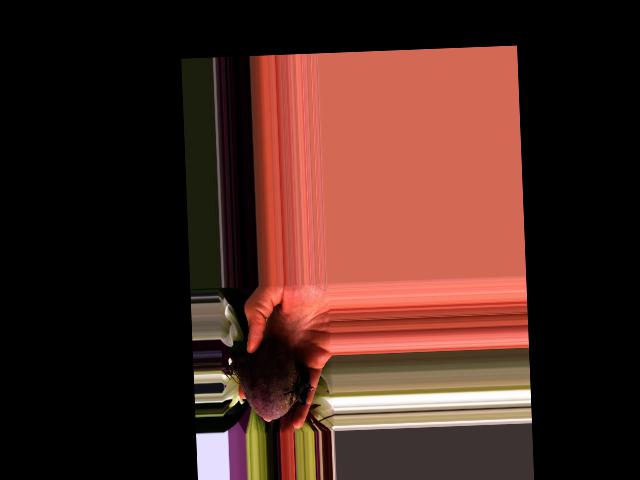beet: (220, 339, 314, 422)
